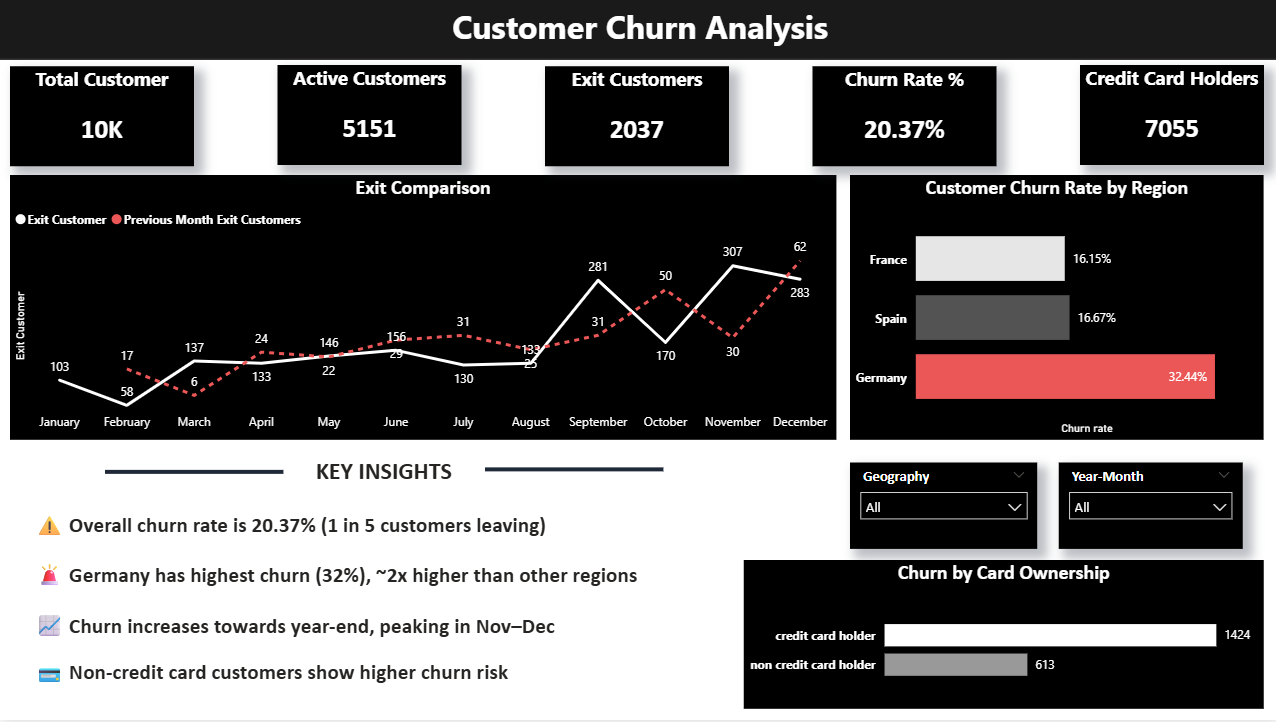

What the dashboard file says about the page in this screenshot:
{"tool":"powerbi","page":{"name":"Page 1","canvas":[1280,720],"ordinal":0},"visuals":[{"type":"card","title":"Active Customer ","fields":{"Values":["Copy of Bank_Departure.Active_customer"]},"box":[0,65.1,177.9,102.3],"z":0},{"type":"card","title":"Total Customer","fields":{"Values":["Copy of Bank_Departure.Total_Customer"]},"box":[187.2,65.1,168.6,103.5],"z":1000},{"type":"card","title":"Inactive Customer","fields":{"Values":["Copy of Bank_Departure.Inactive_Customer"]},"box":[368.6,65.1,186,103.5],"z":2000},{"type":"card","title":"Credit Card Holder","fields":{"Values":["Copy of Bank_Departure.Credit_cardHolder"]},"box":[566.3,65.1,183.7,101.2],"z":3000},{"type":"card","title":"Non Credit Holder","fields":{"Values":["Copy of Bank_Departure.Non_credit_cardholder"]},"box":[759.3,65.1,176.7,101.2],"z":4000},{"type":"card","title":"Exit Customer","fields":{"Values":["Copy of Bank_Departure.Exit_Customer"]},"box":[946.5,65.1,159.3,103.5],"z":5000},{"type":"card","title":"Retain Customer","fields":{"Values":["Copy of Bank_Departure.Retain_Customer"]},"box":[1117.4,65.1,162.8,103.5],"z":6000},{"type":"textbox","box":[0,0,1280.2,59.3],"z":7000},{"type":"shape","box":[0,52.3,1280.2,12.8],"z":8000},{"type":"slicer","fields":{"Values":["DateMaster.Year"]},"box":[0,193.3,162.8,59.9],"z":9000},{"type":"slicer","fields":{"Values":["Copy of Gender.GenderCategory"]},"box":[0,554,162.8,58.8],"z":10000},{"type":"slicer","fields":{"Values":["DateMaster.Month"]},"box":[0,253.3,162.8,59.9],"z":11000},{"type":"slicer","fields":{"Values":["Copy of Bank_Departure.HasCrCard"]},"box":[0,495.2,162.8,58.8],"z":12000},{"type":"slicer","fields":{"Values":["Copy of Geography.GeographyLocation"]},"box":[0,313.2,162.8,61.1],"z":13000},{"type":"slicer","fields":{"Values":["Copy of ActiveCustomer.ActiveCategory"]},"box":[0,374.2,162.8,61.1],"z":14000},{"type":"slicer","fields":{"Values":["Copy of ExitCustomer.ExitCategory"]},"box":[0,435.3,162.8,59.9],"z":15000},{"type":"shape","box":[162.8,186.6,12.4,436.4],"z":16000},{"type":"shape","box":[0,179.8,169.6,13.6],"z":17000},{"type":"clusteredColumnChart","fields":{"Y":["Copy of Bank_Departure.Total_Customer"],"Category":["DateMaster.Year"],"Series":["Copy of ActiveCustomer.ActiveCategory"]},"box":[522.6,450.6,413.3,269.4],"z":18000},{"type":"lineChart","fields":{"Y":["Copy of Bank_Departure.Exit_Customer"],"Y2":["Copy of Bank_Departure.Previous Month Exit Customers"],"Category":["DateMaster.Month"]},"box":[175,186.2,815.5,264.4],"z":19000},{"type":"donutChart","fields":{"Y":["Copy of Bank_Departure.Exit_Customer"],"Category":["Copy of Gender.GenderCategory"]},"box":[177.9,450,343,269.8],"z":20000},{"type":"actionButton","box":[0,671.6,100.6,40.7],"z":22000},{"type":"actionButton","box":[71.2,623,100.6,39.6],"z":23000},{"type":"shape","box":[0,613.9,169.6,14.7],"z":24000},{"type":"donutChart","fields":{"Y":["Copy of Bank_Departure.Exit Customer"],"Category":["Copy of CreditCard.Category"]},"box":[982.6,465.1,297.7,254.7],"z":25000},{"type":"shape","box":[983.1,186.2,7.4,269.4],"z":26000},{"type":"textbox","box":[990.5,186.2,289.2,264.4],"z":27000}]}

Visuals, with their boxes in screenshot pixels (x1, y1, x2, y2), scaled from the page's 1280x720 canvas onto the 1276x722 screenshot:
"Active Customer " card: 0/65/177/168
"Total Customer" card: 187/65/355/169
"Inactive Customer" card: 367/65/553/169
"Credit Card Holder" card: 565/65/748/167
"Non Credit Holder" card: 757/65/933/167
"Exit Customer" card: 944/65/1102/169
"Retain Customer" card: 1114/65/1275/169
textbox: 0/0/1275/59
shape: 0/52/1275/65
slicer - DateMaster.Year: 0/194/162/254
slicer - Copy of Gender.GenderCategory: 0/556/162/615
slicer - DateMaster.Month: 0/254/162/314
slicer - Copy of Bank_Departure.HasCrCard: 0/497/162/556
slicer - Copy of Geography.GeographyLocation: 0/314/162/375
slicer - Copy of ActiveCustomer.ActiveCategory: 0/375/162/437
slicer - Copy of ExitCustomer.ExitCategory: 0/437/162/497
shape: 162/187/175/625
shape: 0/180/169/194
clusteredColumnChart - Copy of Bank_Departure.Total_Customer x DateMaster.Year: 521/452/933/721
lineChart - Copy of Bank_Departure.Exit_Customer x Copy of Bank_Departure.Previous Month Exit Customers: 174/187/987/452
donutChart - Copy of Bank_Departure.Exit_Customer x Copy of Gender.GenderCategory: 177/451/519/721
actionButton: 0/673/100/714
actionButton: 71/625/171/664
shape: 0/616/169/630
donutChart - Copy of Bank_Departure.Exit Customer x Copy of CreditCard.Category: 980/466/1275/721
shape: 980/187/987/457
textbox: 987/187/1275/452
